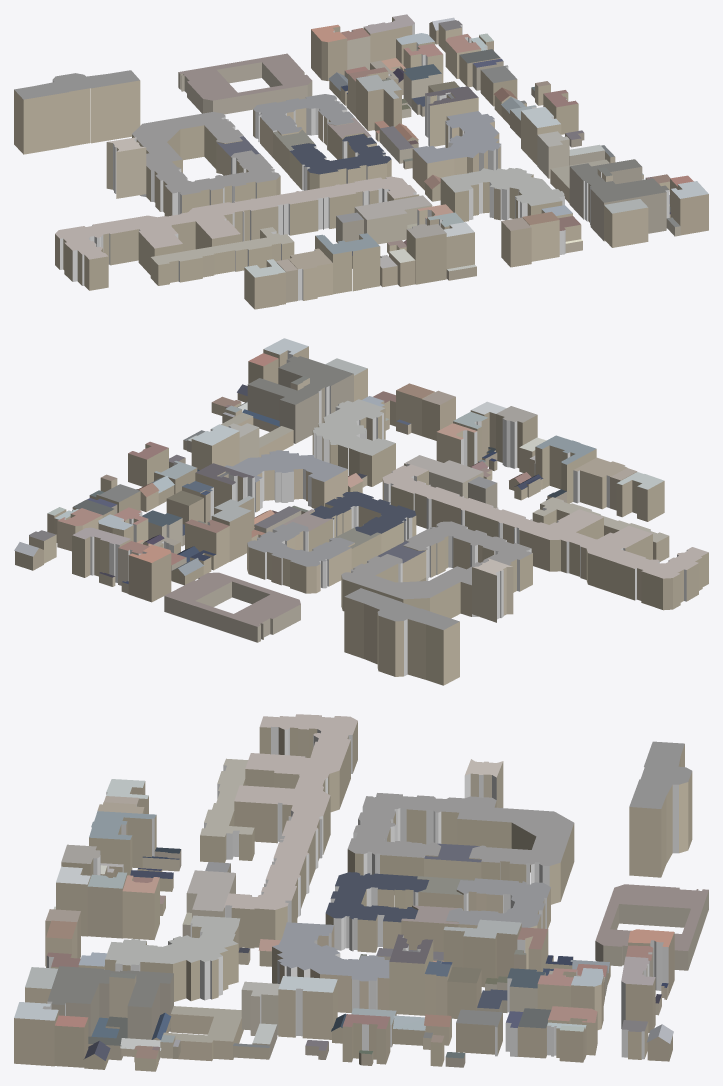
The picture shows the model from 3 angles, top to bottom: view 1: azimuth 30°, elevation 25°; view 2: azimuth 150°, elevation 25°; view 3: azimuth 270°, elevation 25°; orthographic projection. The views are drawn at different scales.
Visible parts, largest first — view 1: tuile; view 2: tuile; view 3: tuile.
Boxes of the visible parts, bbox=[...] form: tuile: bbox=[14, 14, 708, 309]; tuile: bbox=[14, 338, 708, 685]; tuile: bbox=[14, 714, 708, 1071].
Bounding box in the file's own units: 291 × 28.41 × 261.
